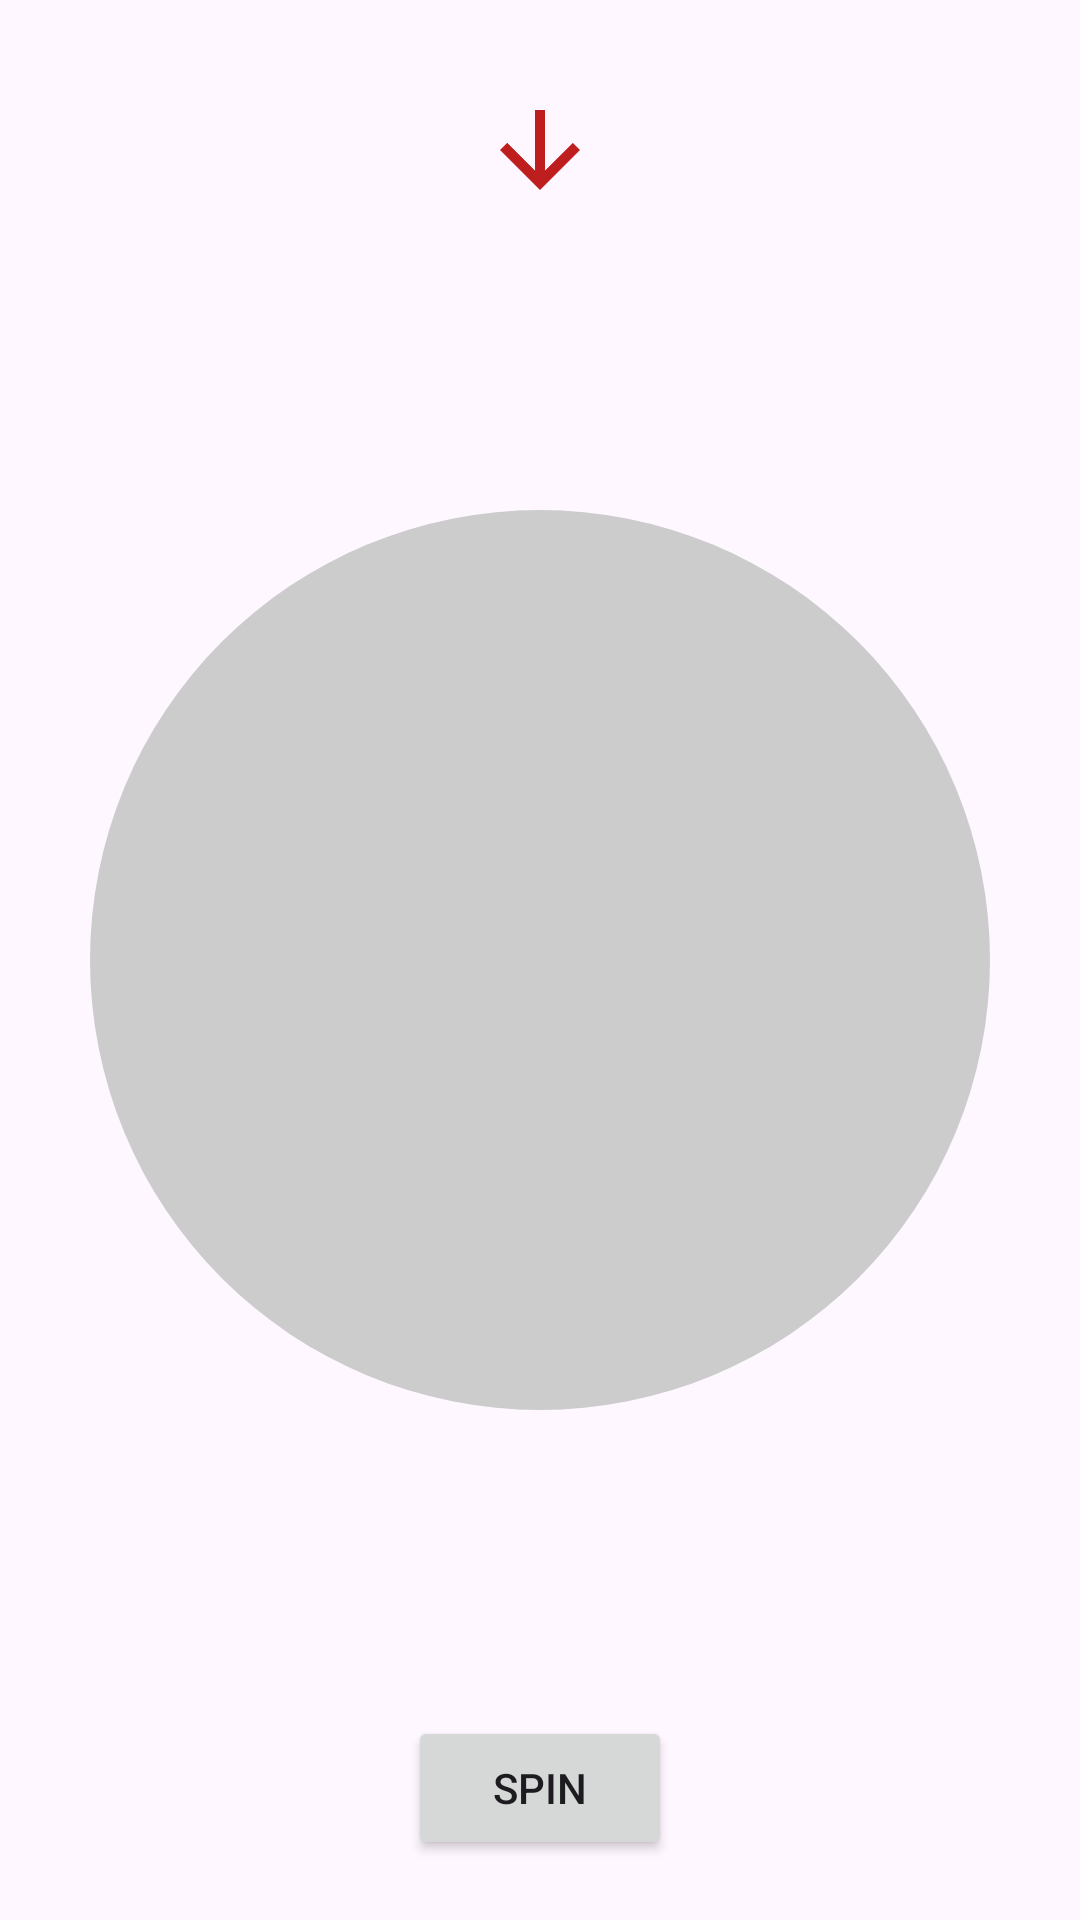

Icons on this 1080×1920 Android screen, each with its box as (x1, y1, x2, y2):
arrow down: (500, 110, 580, 190)
